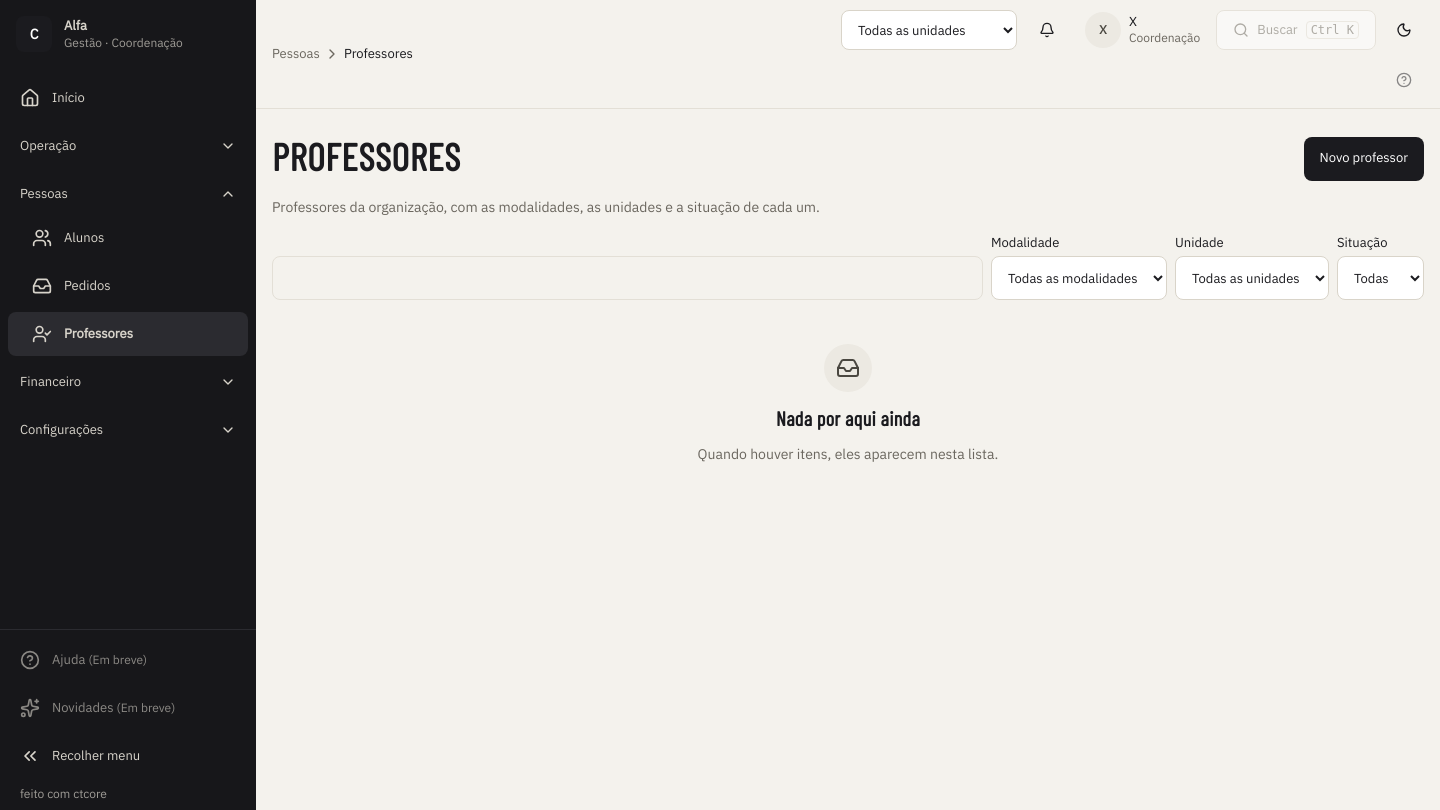
Test: TeacherFormDialog (RF-PRO-03, CA12) › a apresentação mostra o contador n/300
Click the button "Novo professor": [1364, 158] box x1=1304 y1=136 x2=1424 y2=180
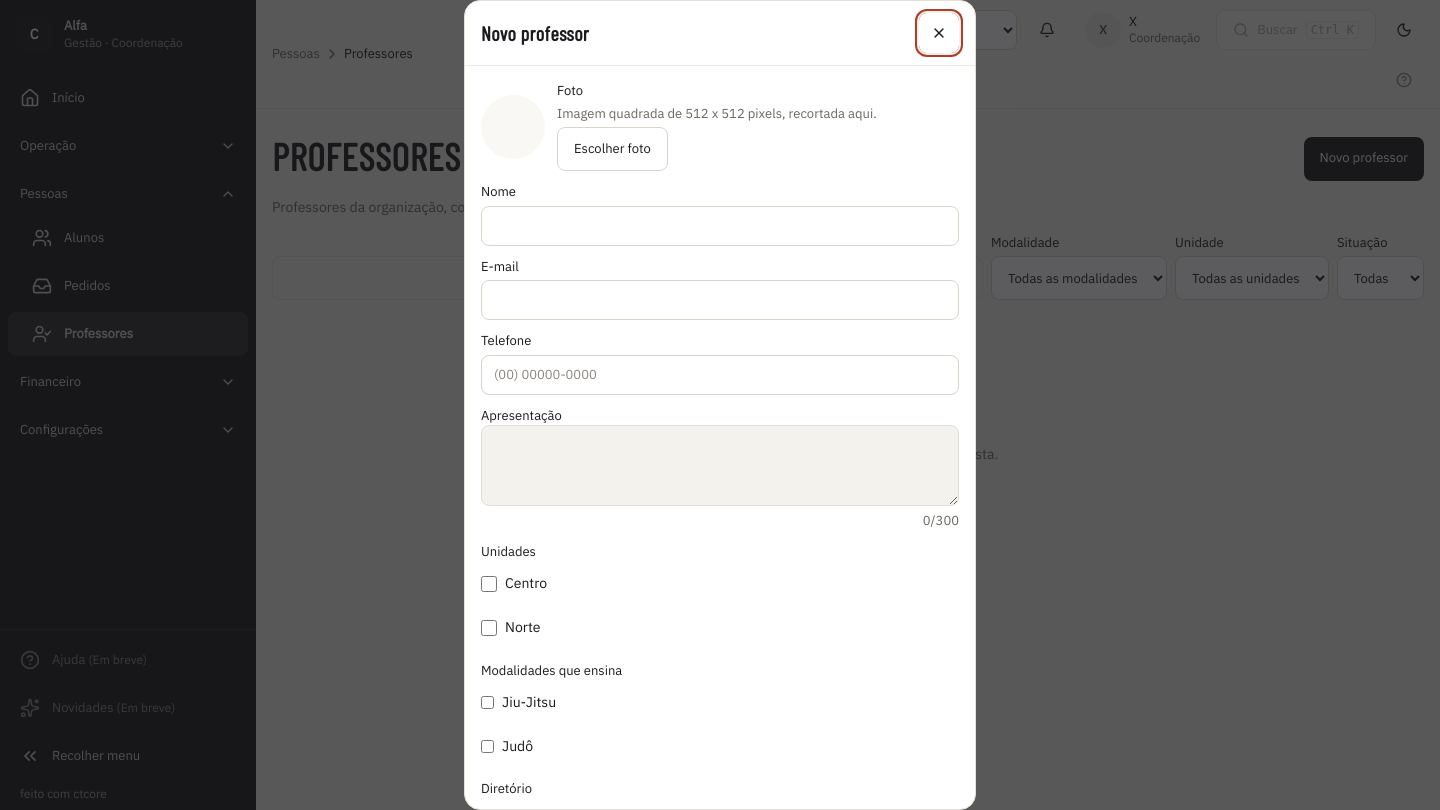
Expected: the text "0/300" is shown, x1=923 y1=512 x2=959 y2=529
In the text box labelled "Apresentação": [720, 466] box x1=481 y1=425 x2=959 y2=506, type "Olá!"
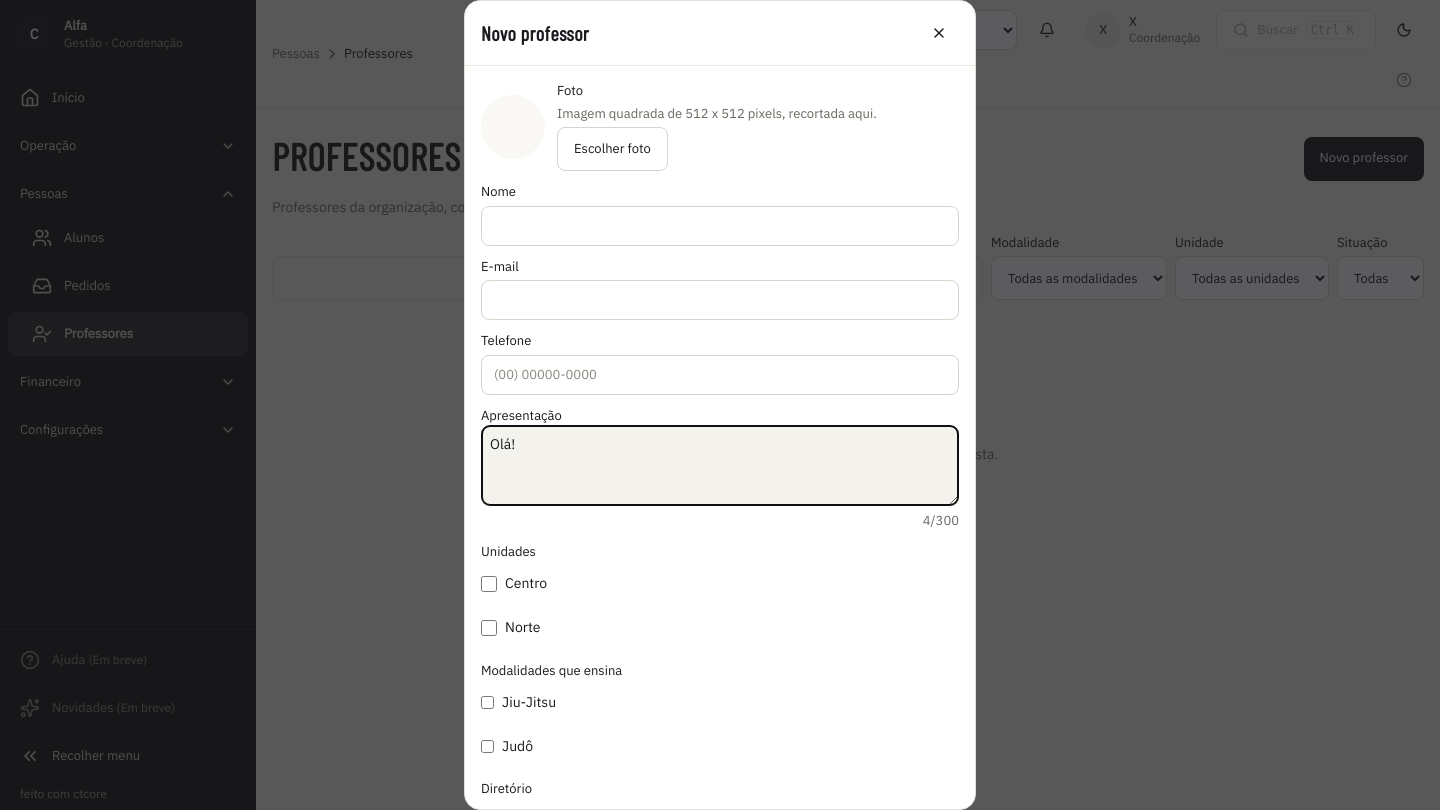
Expected: the text "4/300" is shown, x1=923 y1=512 x2=959 y2=529
